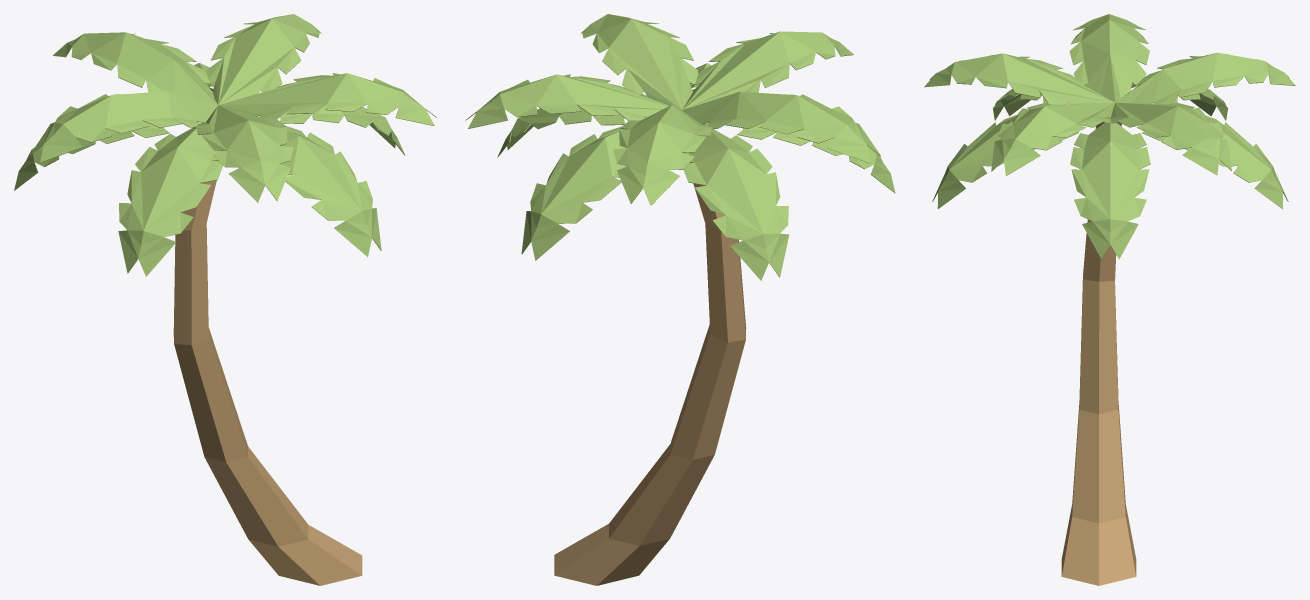
File: Palm_3.fbx
The picture shows the model from 3 angles, left to right: view 1: azimuth 30°, elevation 25°; view 2: azimuth 150°, elevation 25°; view 3: azimuth 270°, elevation 25°; orthographic projection. The views are drawn at different scales.
Parts seen in each view (by area): view 1: Palm_3; view 2: Palm_3; view 3: Palm_3.
Boxes of the visible parts, bbox=[...] form: Palm_3: bbox=[14, 14, 436, 585]; Palm_3: bbox=[465, 14, 895, 585]; Palm_3: bbox=[924, 14, 1295, 585].
Size of the model in its own units: 292 by 393 by 288.
1 material, 1 textured.
